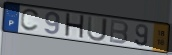9: (43, 11, 62, 36), (134, 23, 150, 48)
B: (108, 19, 130, 45)
C: (19, 8, 42, 33)
H: (64, 12, 86, 41)
U: (86, 15, 108, 43)
